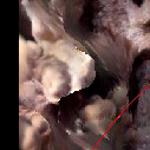alive: (17, 1, 148, 148)
